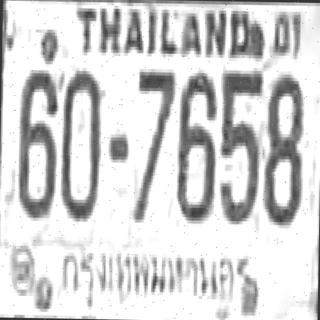N00: (59, 67, 101, 218)
N05: (218, 67, 260, 222)
N06: (16, 66, 56, 215), (174, 69, 214, 217)
N07: (132, 65, 174, 220)
N08: (263, 71, 303, 222)
P04: (58, 240, 252, 303)
